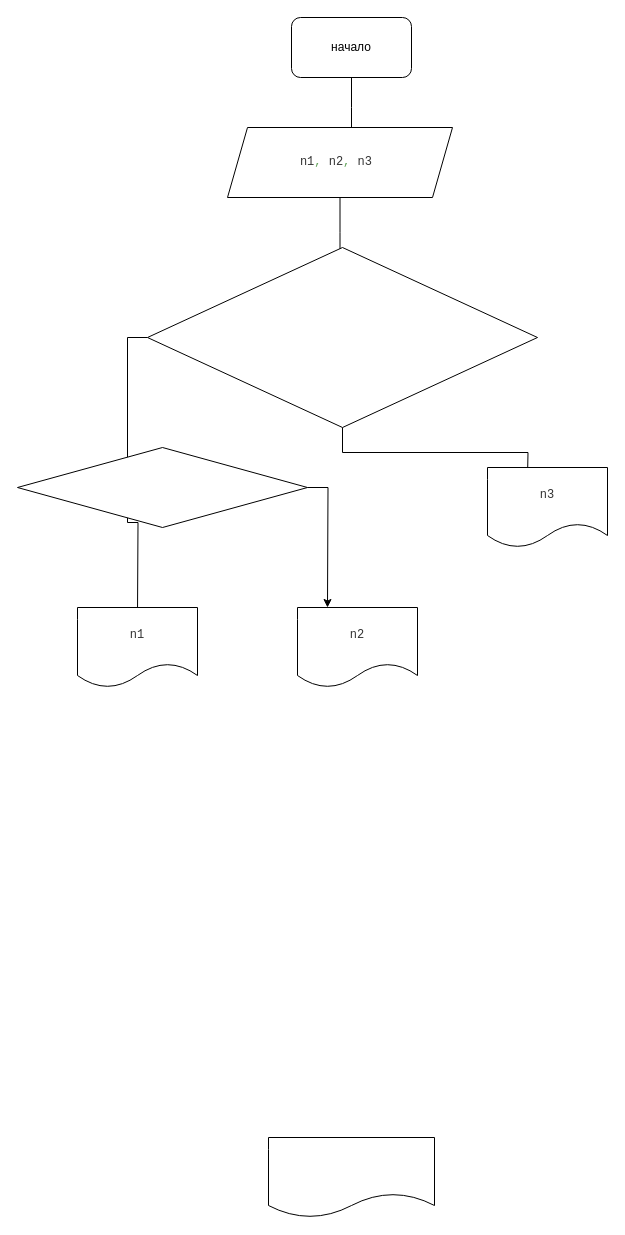
Some shapes in this 625 by 1235 pixel diagram are drawn without their labels. Each missing label, with the centre of its shape:
n1 < n2 < n3 or n3 < n2 < n1: pixel 162 487
n2 < n1 < n3 or n3 < n1 < n2: pixel 342 337
number: pixel 351 1177
